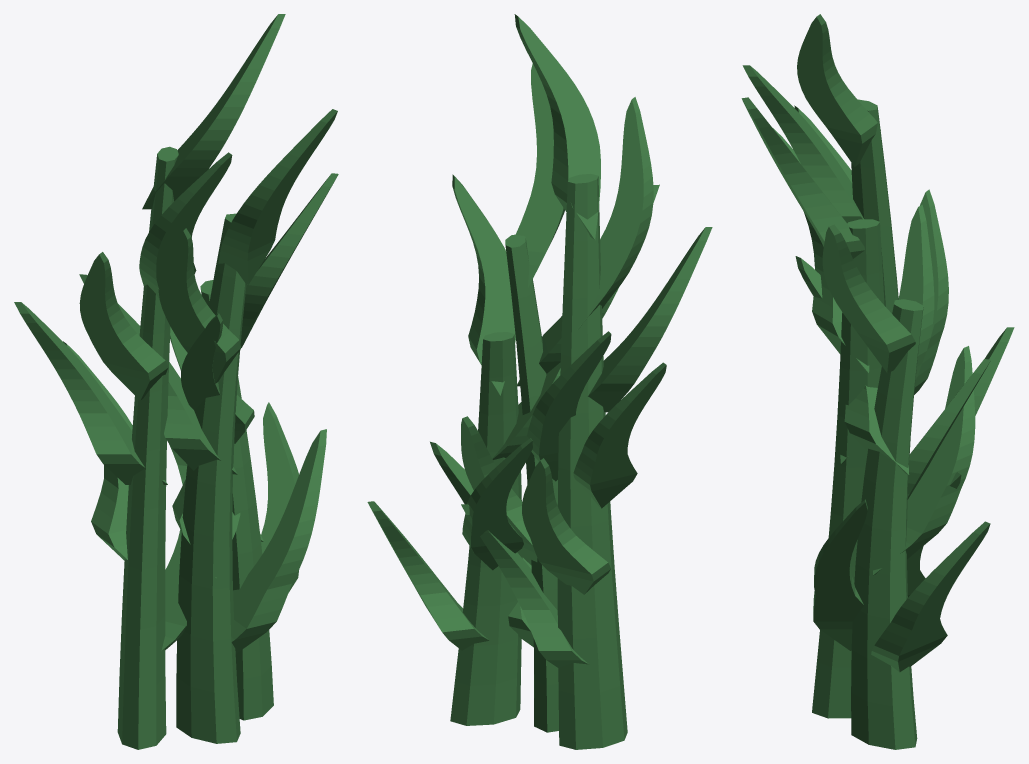
File: Kelp2.fbx
3 renders of one model, left to right at view 1: azimuth 30°, elevation 25°; view 2: azimuth 150°, elevation 25°; view 3: azimuth 270°, elevation 25°, orthographic. The views are drawn at different scales.
Visible parts, largest first — view 1: Kelp_GreenMat; view 2: Kelp_GreenMat; view 3: Kelp_GreenMat.
Part boxes in pixels (box(x1,y1,x2,y2)): Kelp_GreenMat: box(14, 14, 338, 749); Kelp_GreenMat: box(367, 14, 712, 749); Kelp_GreenMat: box(741, 14, 1014, 749).
Bounding box in the file's own units: 550 × 1292 × 443.
